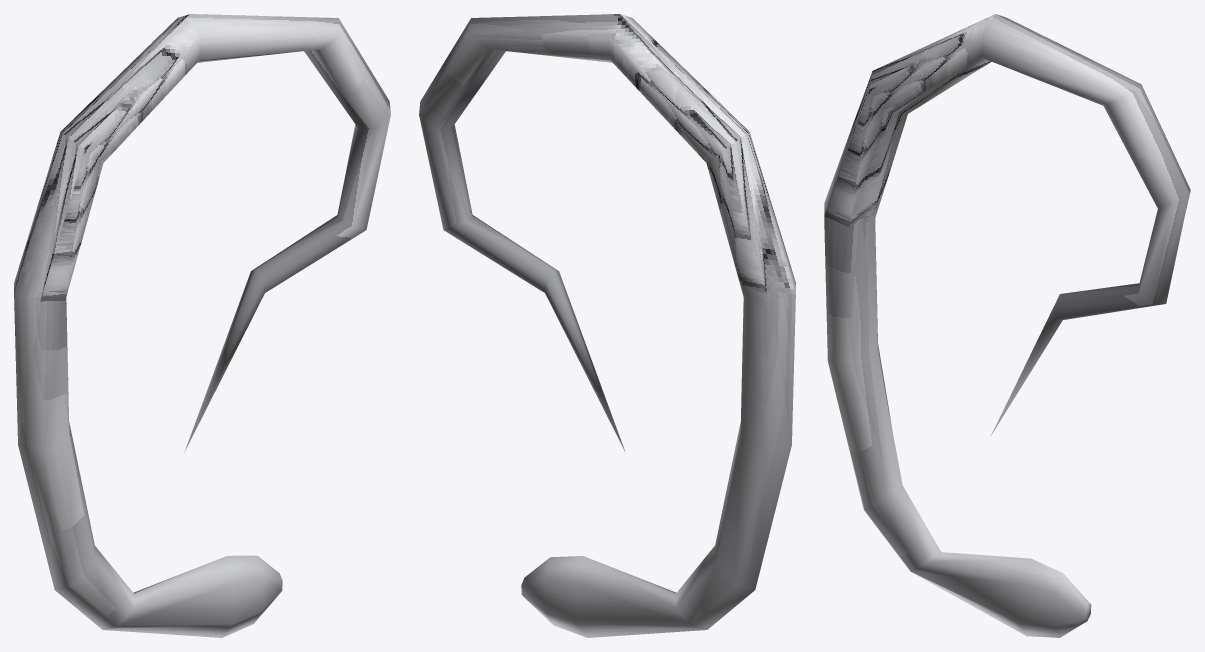
Rendered from snake_000023.obj.
3 renders of one model, left to right at view 1: azimuth 30°, elevation 25°; view 2: azimuth 150°, elevation 25°; view 3: azimuth 330°, elevation 25°, orthographic. The views are drawn at different scales.
Parts seen in each view (by area): view 1: Cylinder; view 2: Cylinder; view 3: Cylinder.
Part boxes in pixels (x1,y1,x2,y2): Cylinder: (14, 14, 390, 637); Cylinder: (419, 14, 795, 637); Cylinder: (824, 14, 1190, 637).
Size of the model in its own units: 3.05 by 4.9 by 0.3671.
